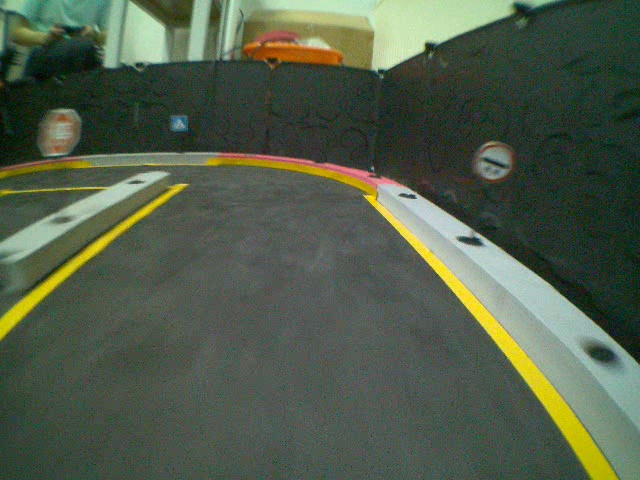Check: (474, 139, 515, 183)
Stop: (35, 106, 82, 157)
crossing: (169, 116, 188, 133)
